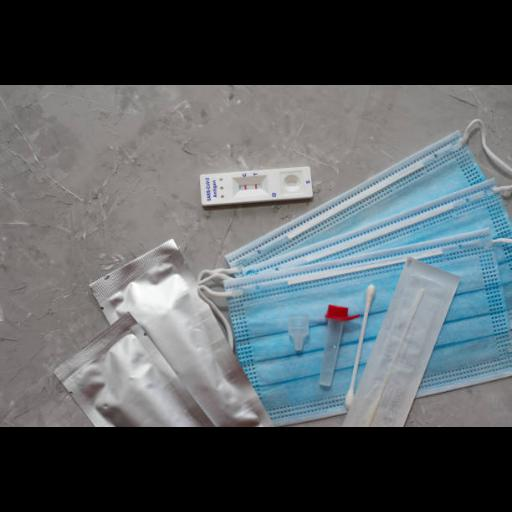Pos: (200, 165, 313, 204)
